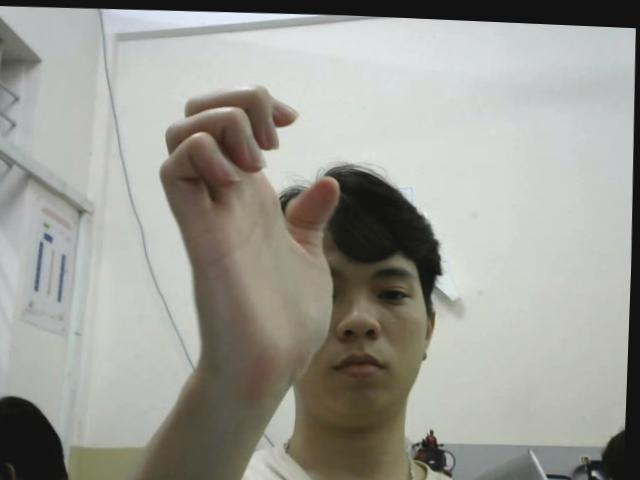E: (151, 75, 346, 379)
